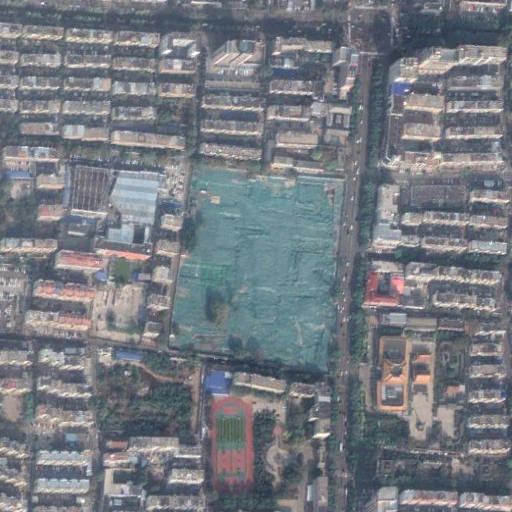cw: (170, 165, 346, 376)
